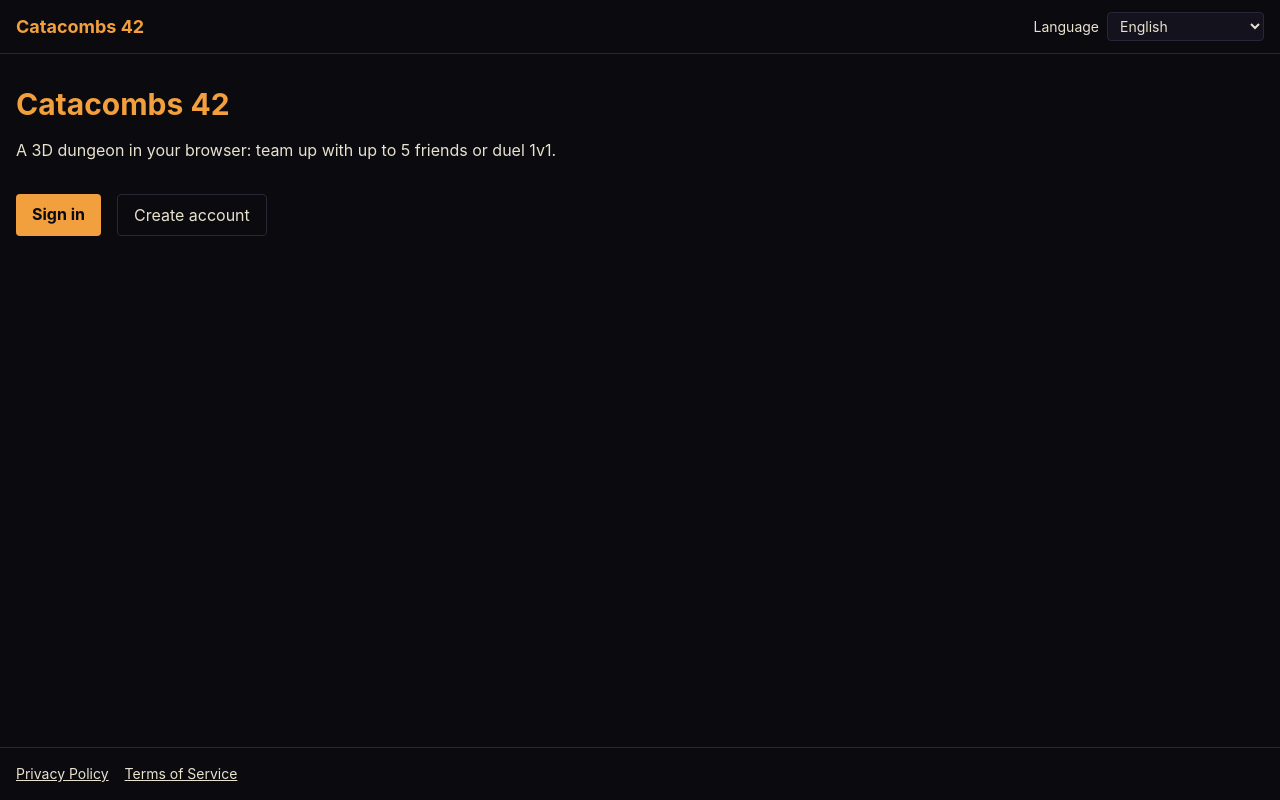
Home › o link "Create account" leva à tela de entrada
Click the link "Create account": coordinates (192, 215) [117,194,267,236]
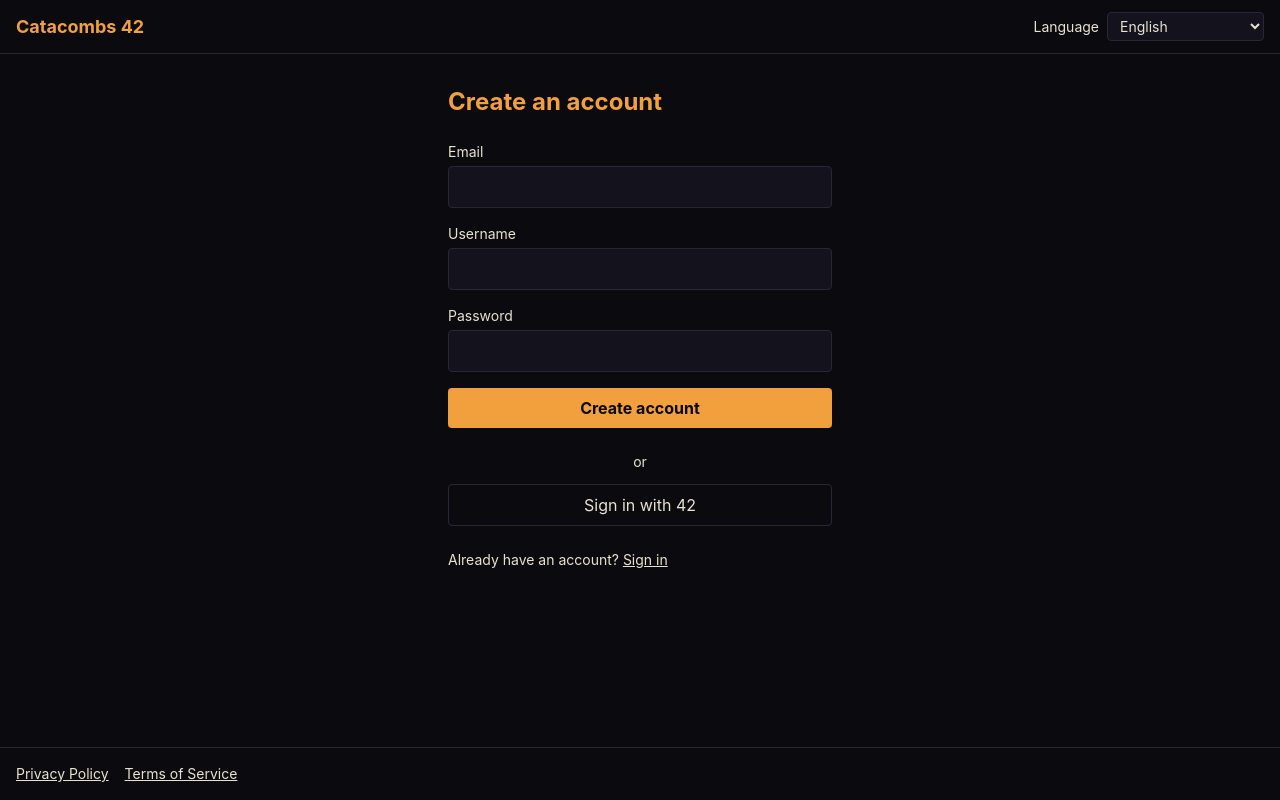
Now the heading "Create an account" is shown, box [448,87,662,116]
